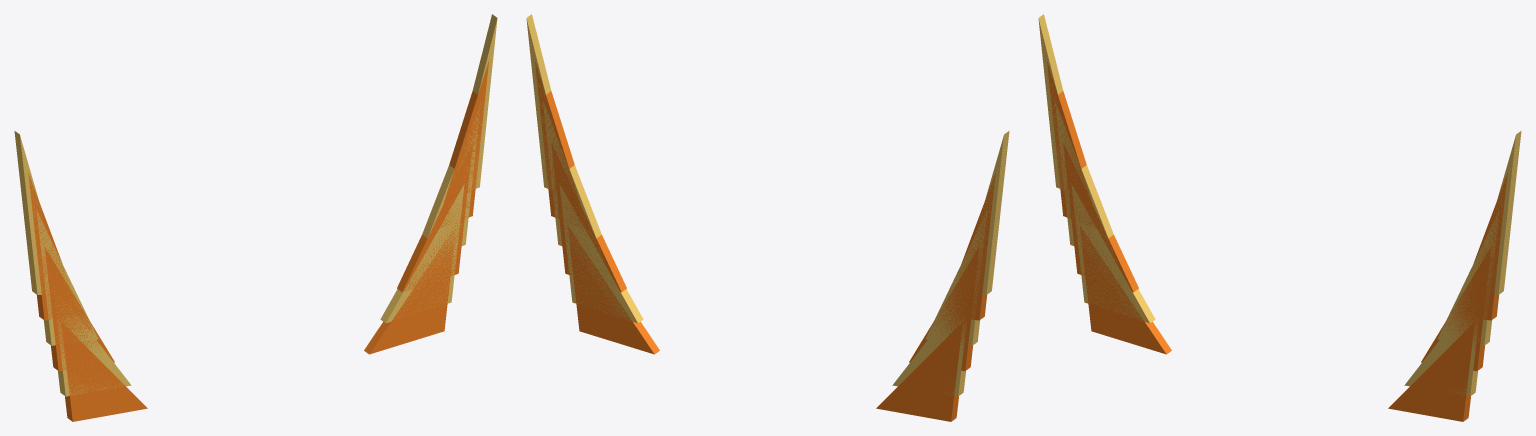
Rendered from flame-face.glb.
3 renders of one model, left to right at view 1: azimuth 30°, elevation 25°; view 2: azimuth 150°, elevation 25°; view 3: azimuth 330°, elevation 25°, orthographic.
Parts seen in each view (by area): view 1: face flame (×12); view 2: face flame (×12); view 3: face flame (×12).
Part boxes in pixels (x1,y1,x2,y2): face flame (×12): [14, 14, 497, 421]; face flame (×12): [526, 14, 1009, 421]; face flame (×12): [1038, 14, 1521, 421].
Size of the model in its own units: 2.03 by 1.24 by 0.04.
